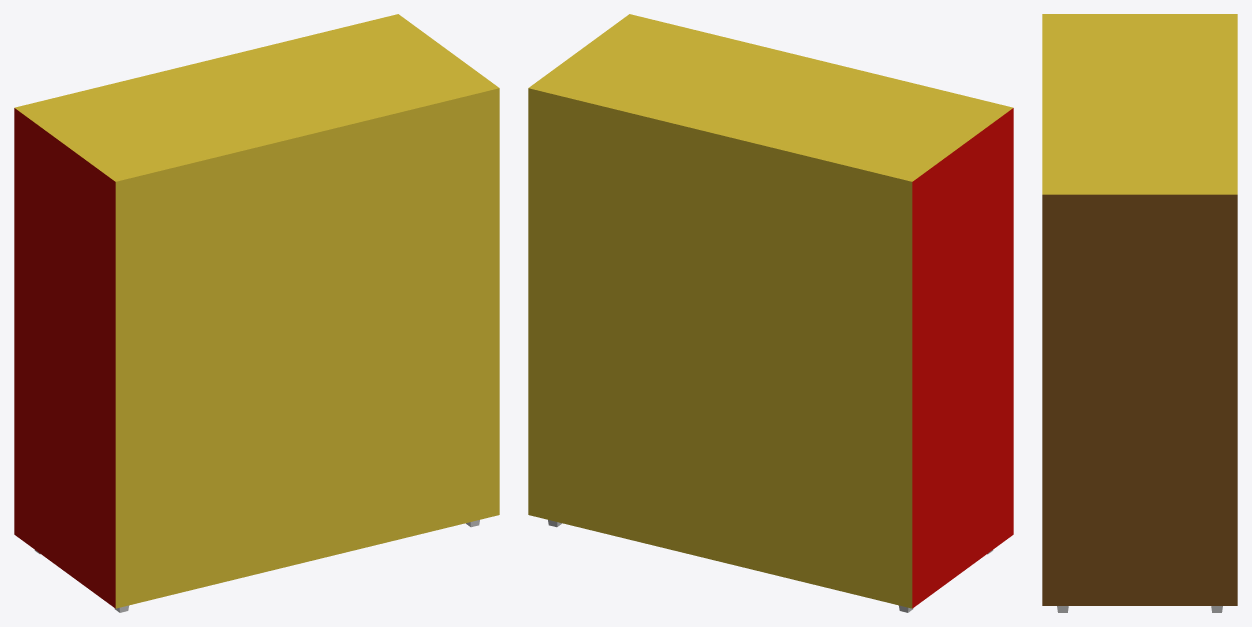
The model's file is komputer.fbx.
3 renders of one model, left to right at view 1: azimuth 30°, elevation 25°; view 2: azimuth 150°, elevation 25°; view 3: azimuth 270°, elevation 25°, orthographic. The views are drawn at different scales.
Visible parts, largest first — view 1: Komputer; view 2: Komputer; view 3: Komputer.
Boxes of the visible parts, left/top/right/bottom form: Komputer: left=14, top=14, right=499, bottom=612; Komputer: left=528, top=14, right=1013, bottom=612; Komputer: left=1042, top=14, right=1237, bottom=612.
Bounding box in the file's own units: 61.32 × 67.12 × 28.01.
